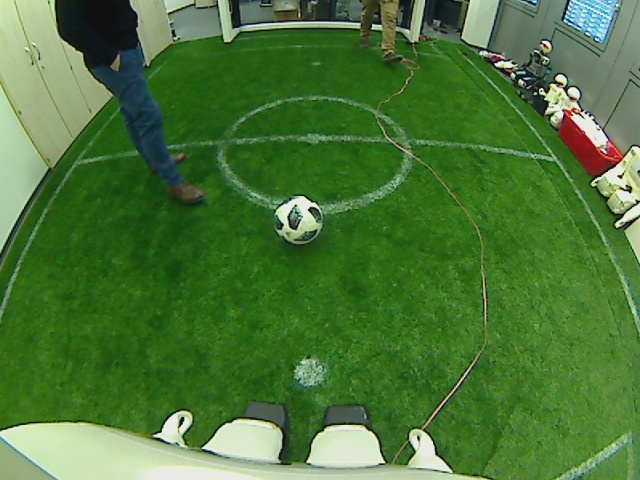ball: (274, 195, 323, 244)
